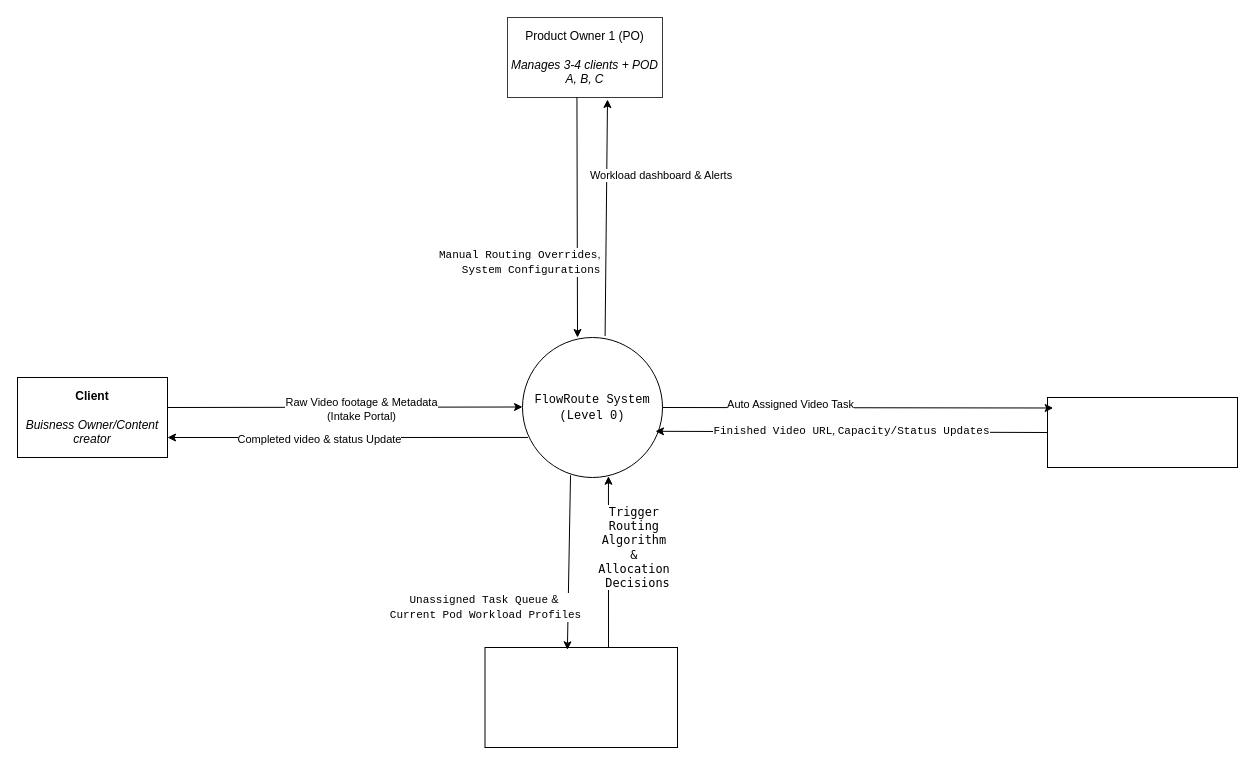
This 1255x765 diagram has some shape labels left out. Here are the shapes that lost their labels. From the top down, the centre of each, then its label:
(x=1142, y=432): Editing Pods Editors and POD leads(Pods A-H)
(x=581, y=697): Smart Routing Engine
